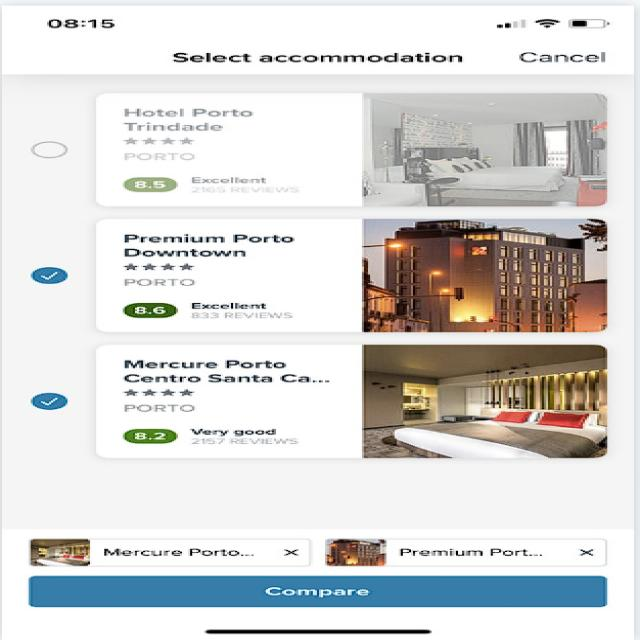button: (1, 567, 631, 618)
image: (348, 87, 615, 205), (354, 214, 615, 333), (351, 344, 617, 459)
row: (6, 73, 640, 213), (0, 338, 640, 473), (0, 215, 640, 333)
text: (109, 350, 344, 401), (106, 221, 332, 274), (117, 98, 316, 150), (164, 42, 503, 72)
